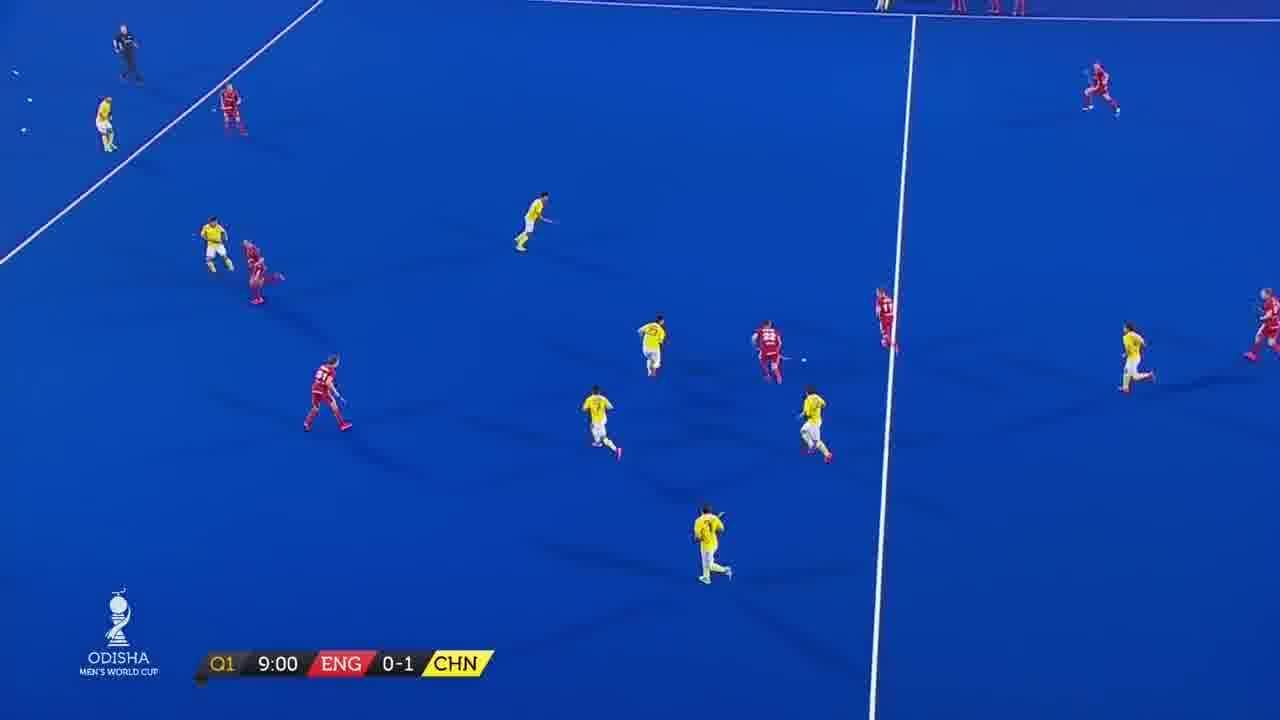ball: (798, 358, 808, 366)
